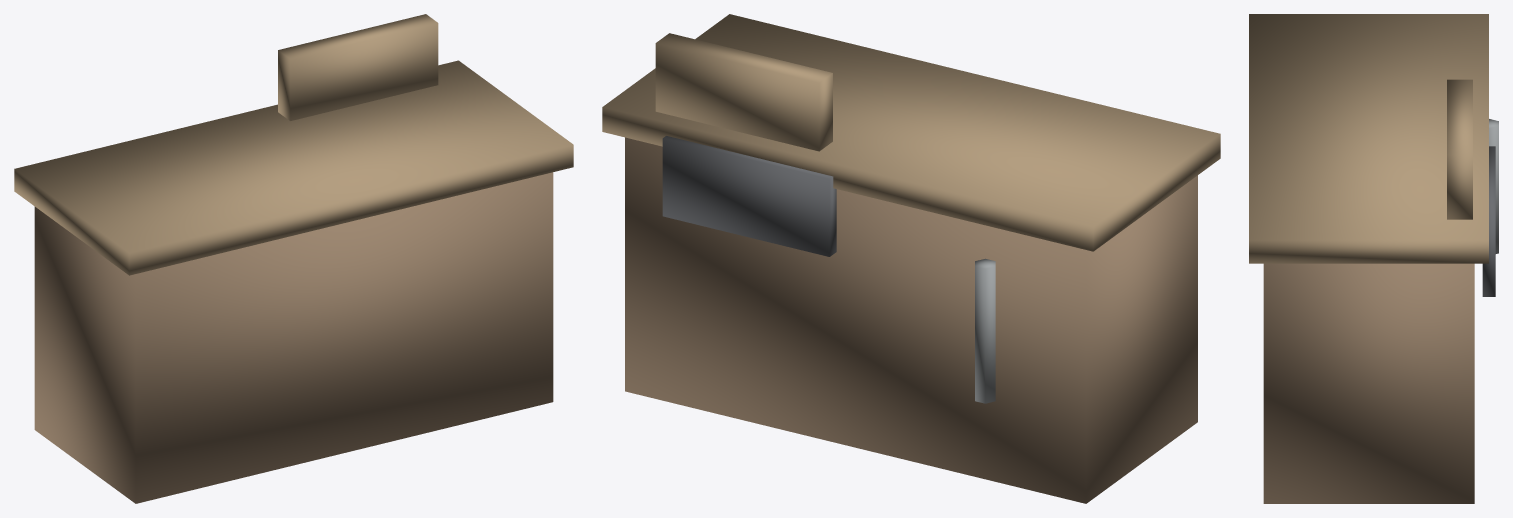
The model's file is clerk_counter__service.glb.
3 views of the same model, side by side, from view 1: azimuth 30°, elevation 25°; view 2: azimuth 150°, elevation 25°; view 3: azimuth 270°, elevation 25° (orthographic). The views are drawn at different scales.
Visible parts, largest first — view 1: world; view 2: world; view 3: world.
Part boxes in pixels (bbox=[...]): world: bbox=[14, 14, 573, 503]; world: bbox=[602, 14, 1220, 503]; world: bbox=[1249, 14, 1498, 503].
Bounding box in the file's own units: 1.65 × 1.14 × 0.7703.
